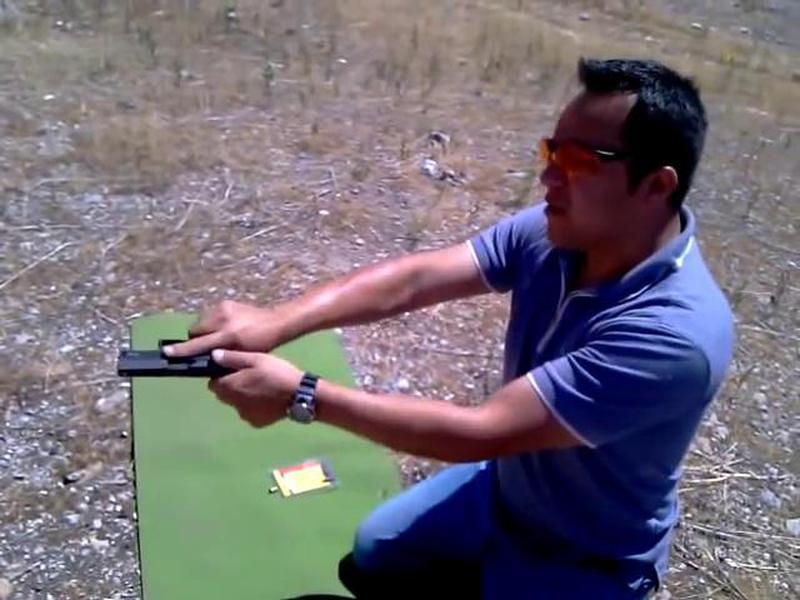Pistola: (105, 319, 255, 394)
